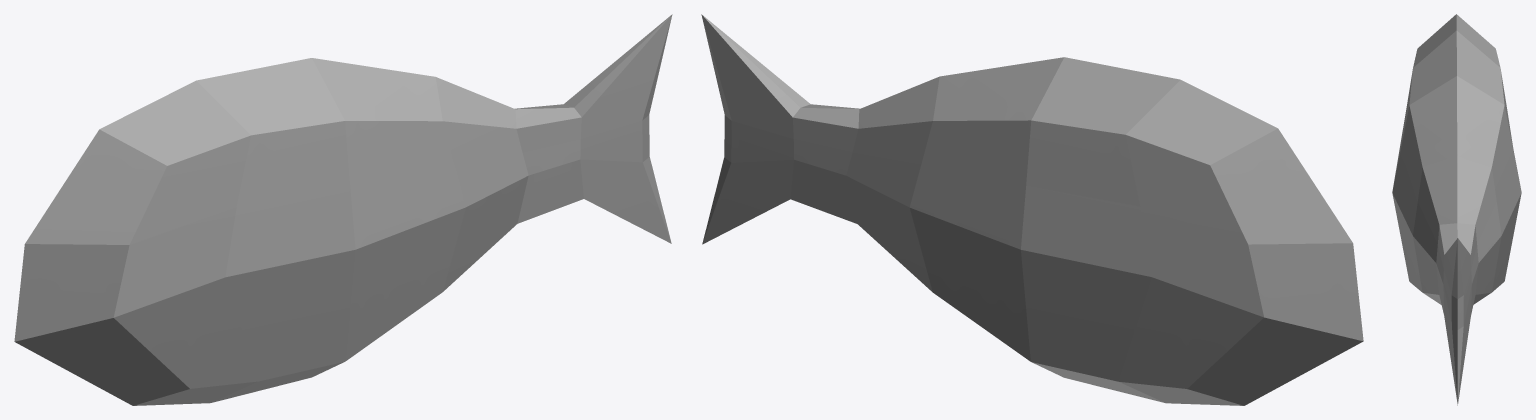
Rendered from FBX_FishSA.fbx.
3 views of the same model, side by side, from view 1: azimuth 30°, elevation 25°; view 2: azimuth 150°, elevation 25°; view 3: azimuth 270°, elevation 25° (orthographic). The views are drawn at different scales.
Parts seen in each view (by area): view 1: M_FishSA; view 2: M_FishSA; view 3: M_FishSA.
Part boxes in pixels (box(x1,y1,x2,y2)): M_FishSA: box(14, 14, 672, 405); M_FishSA: box(701, 14, 1363, 405); M_FishSA: box(1392, 14, 1521, 405).
Bounding box in the file's own units: 0.5022 × 0.2375 × 0.1166.
